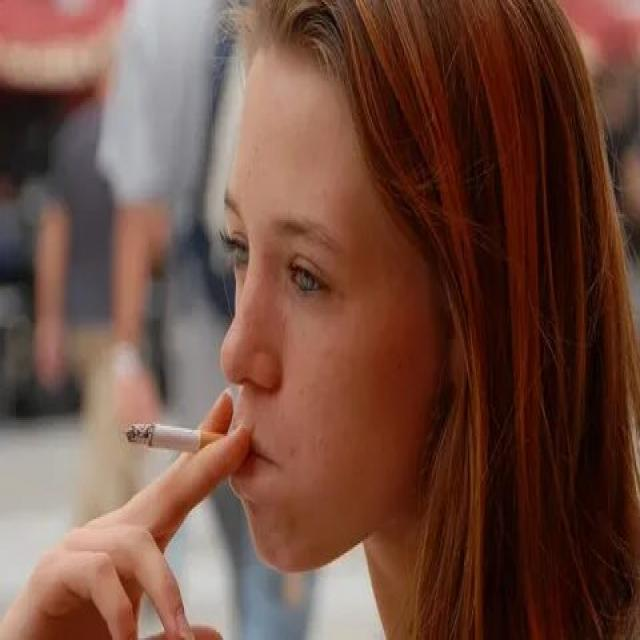smoke: (121, 412, 235, 464)
